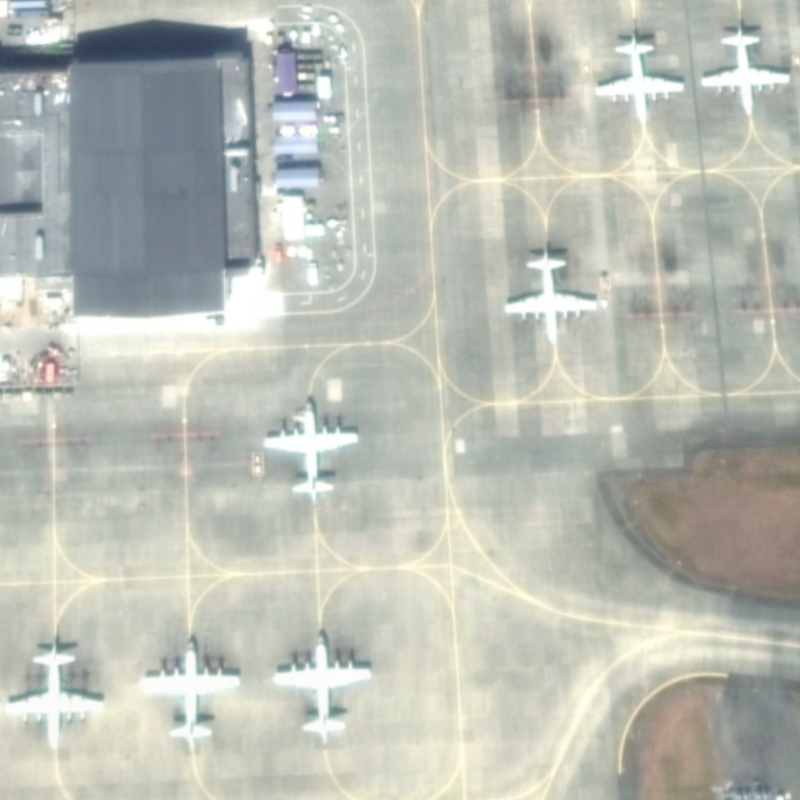A9: (136, 622, 249, 761), (265, 620, 383, 751), (4, 620, 109, 762), (254, 392, 367, 506), (494, 239, 609, 350), (593, 22, 691, 133), (693, 19, 796, 120)
